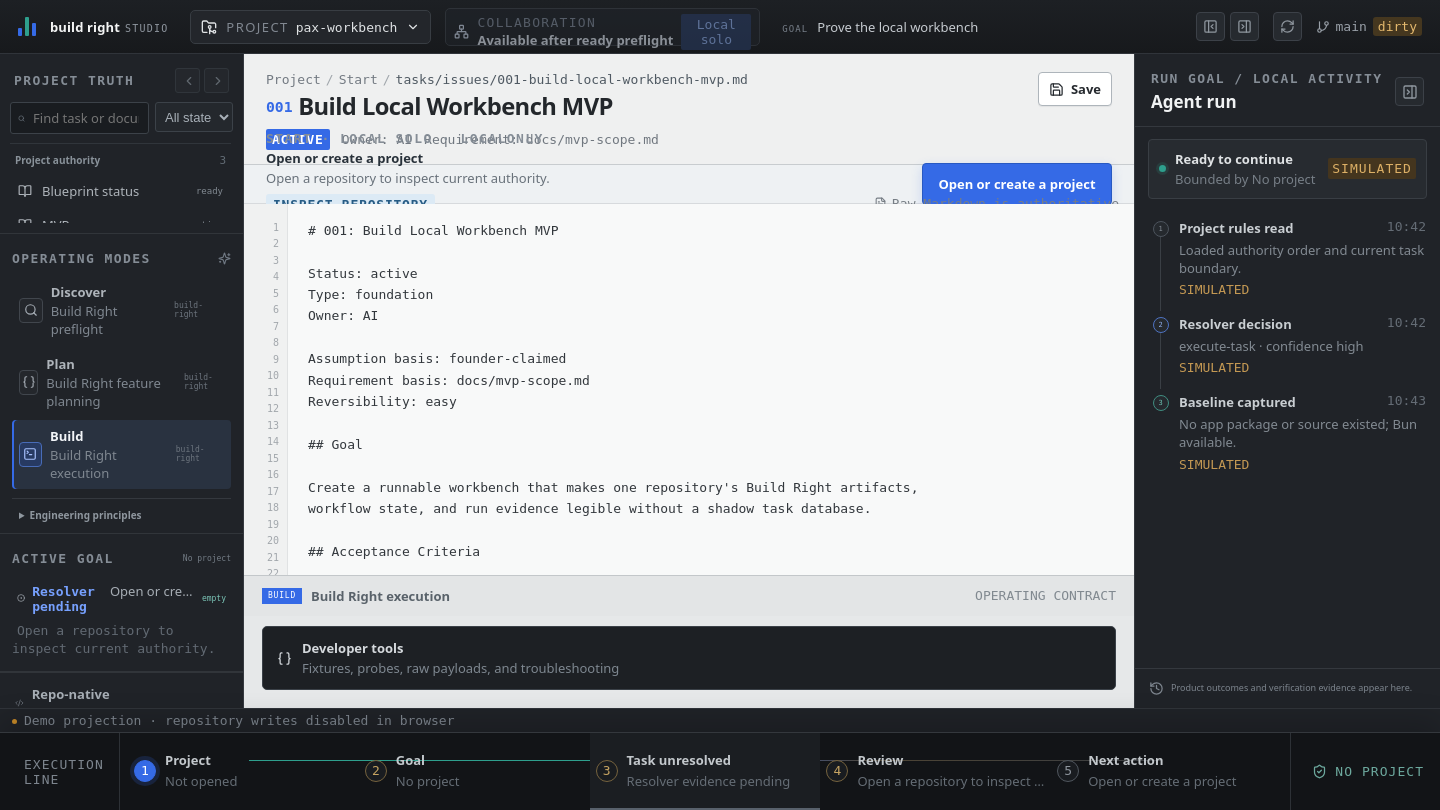
Scenario: Build Right Studio workbench › projects staleTask restart truth and requires a fresh two-step confirmation with zero automatic Codex
Click the button "Project pax-workbench" at {"x": 311, "y": 26}, box left=190, top=10, right=432, bottom=44
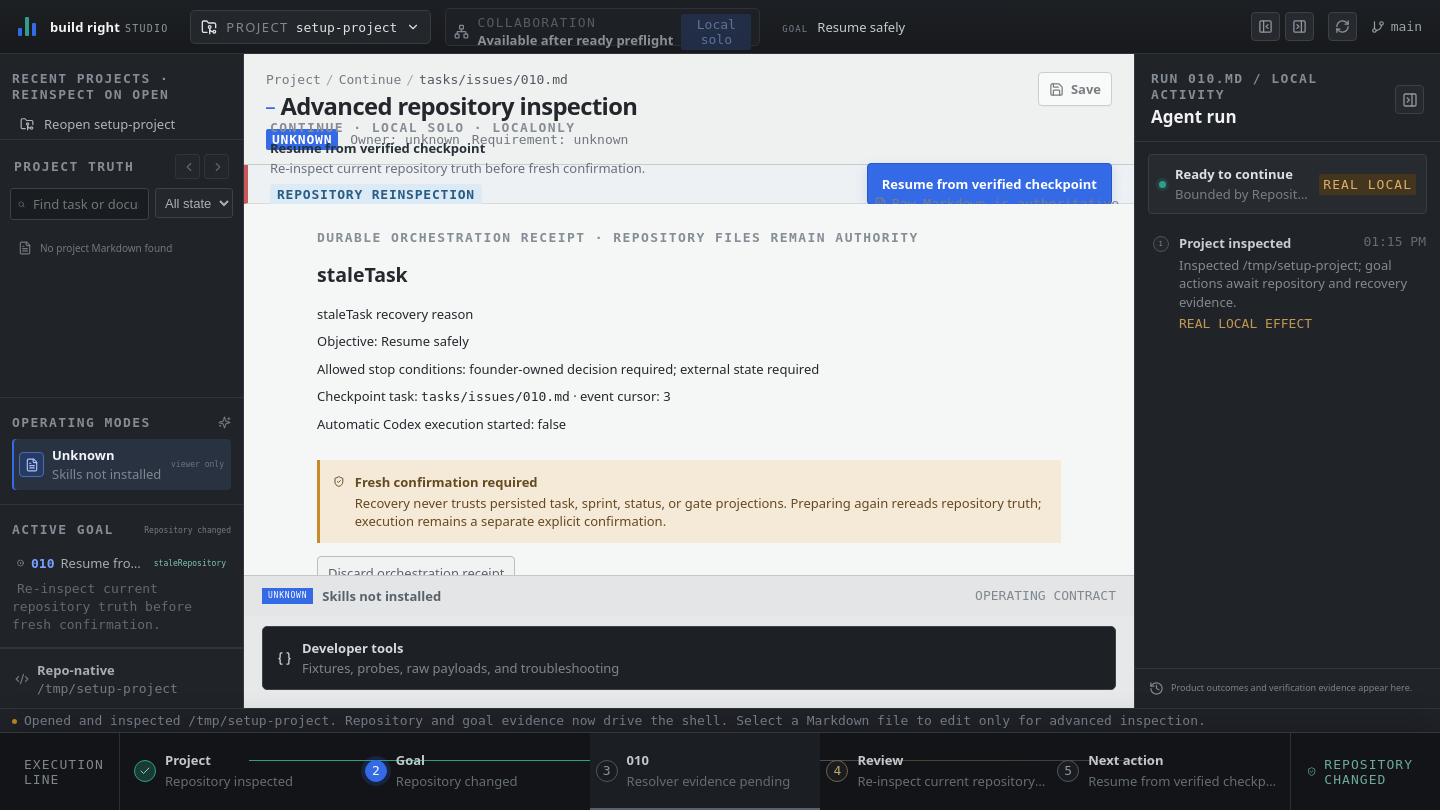
Expected: the heading "staleTask" is shown, left=317, top=261, right=408, bottom=288
Expected: the text "Automatic Codex execution started: false" is shown, left=317, top=415, right=566, bottom=433
Click the button "Resume from verified checkpoint" at {"x": 989, "y": 184}, box left=867, top=163, right=1112, bottom=205
(page scrolled)
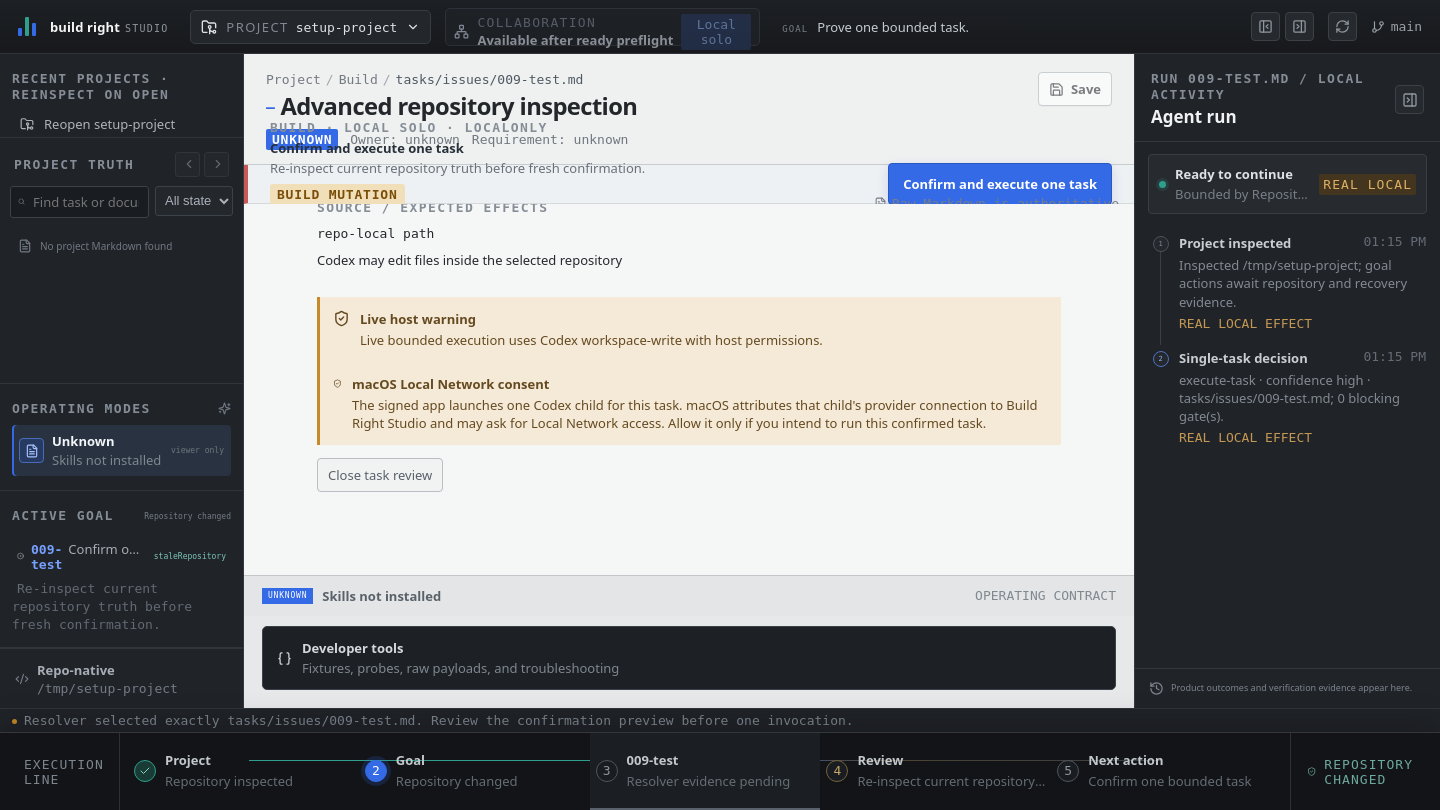
Expected: the button "Confirm and execute one task" is shown, left=888, top=163, right=1112, bottom=205
Expected: the text "macOS attributes that child's provider connection" is shown, left=352, top=396, right=1038, bottom=432
